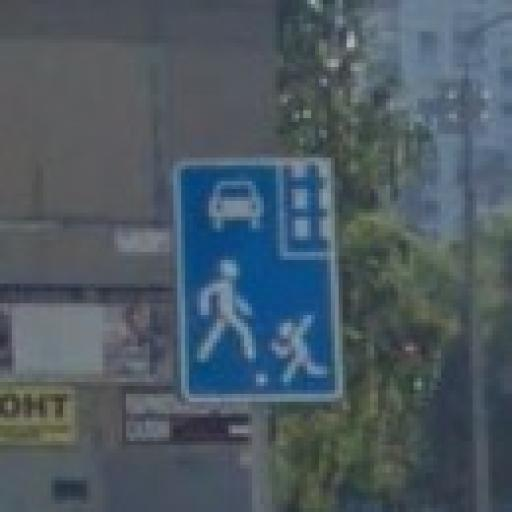traffic_sign: (174, 159, 348, 407)
